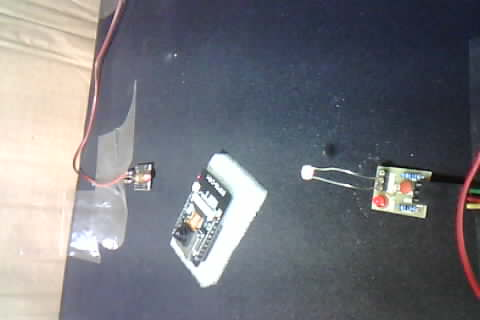esp32: (171, 156, 249, 278)
